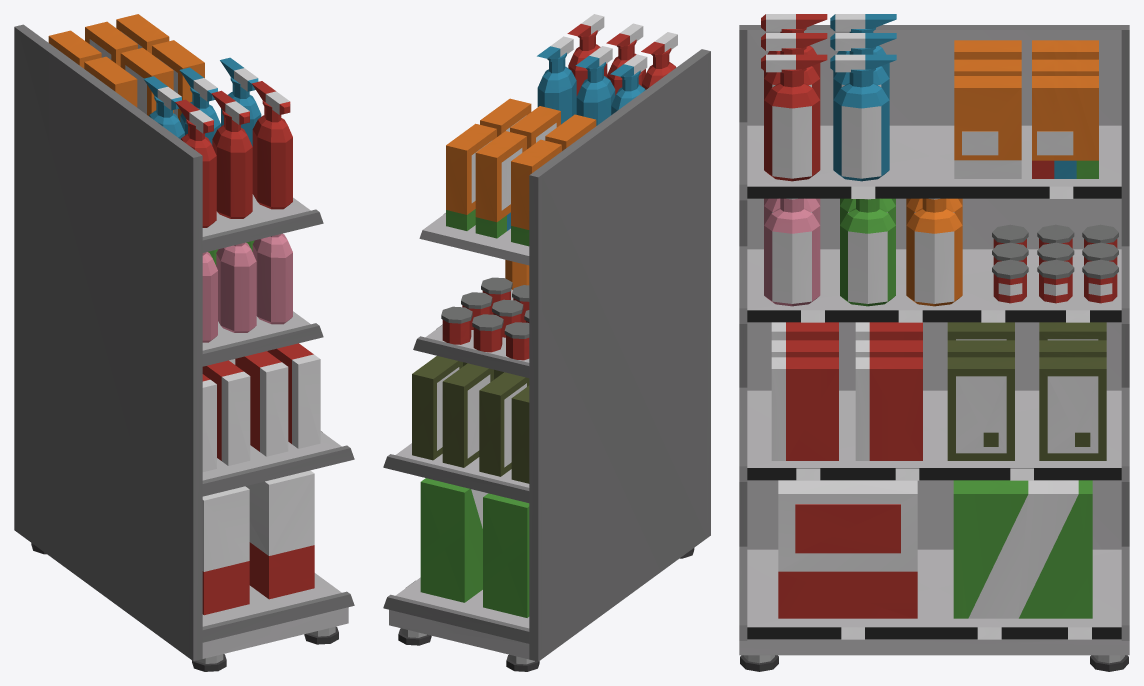
Rendered from SM_shopShelve_04.glb.
3 renders of one model, left to right at view 1: azimuth 30°, elevation 25°; view 2: azimuth 150°, elevation 25°; view 3: azimuth 270°, elevation 25°, orthographic. The views are drawn at different scales.
Parts seen in each view (by area): view 1: SM_shopShelve_04; view 2: SM_shopShelve_04; view 3: SM_shopShelve_04.
Boxes of the visible parts, box(x1,y1,x2,y2) form: SM_shopShelve_04: box(14, 14, 354, 671); SM_shopShelve_04: box(383, 14, 710, 671); SM_shopShelve_04: box(739, 14, 1129, 671).
Size of the model in its own units: 0.52 by 1.66 by 1.
Materials: 1 (1 with a texture image).
